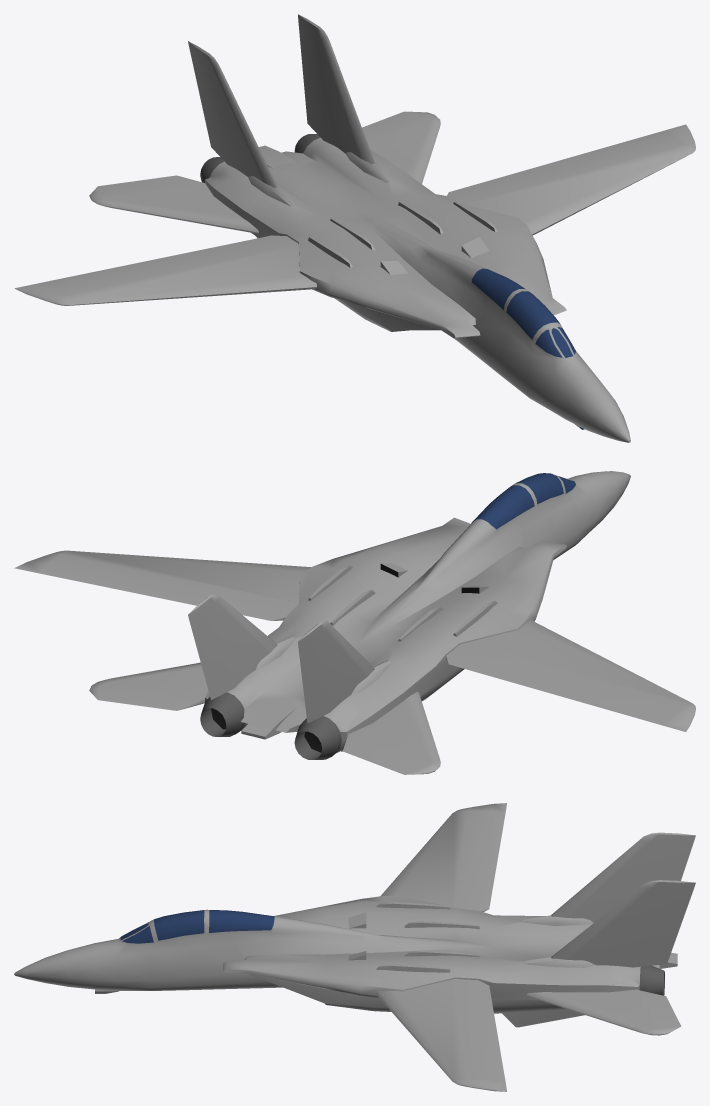
The model's file is skyfire-player-f14.glb.
The picture shows the model from 3 angles, top to bottom: view 1: azimuth 30°, elevation 25°; view 2: azimuth 150°, elevation 25°; view 3: azimuth 270°, elevation 25°; orthographic projection. The views are drawn at different scales.
Visible parts, largest first — view 1: skyfire-player-f14; view 2: skyfire-player-f14; view 3: skyfire-player-f14.
Boxes of the visible parts, x1,y1,x2,y2 form: skyfire-player-f14: [14, 14, 695, 442]; skyfire-player-f14: [14, 471, 695, 774]; skyfire-player-f14: [14, 803, 695, 1091].
Size of the model in its own units: 203 by 49.46 by 203.
